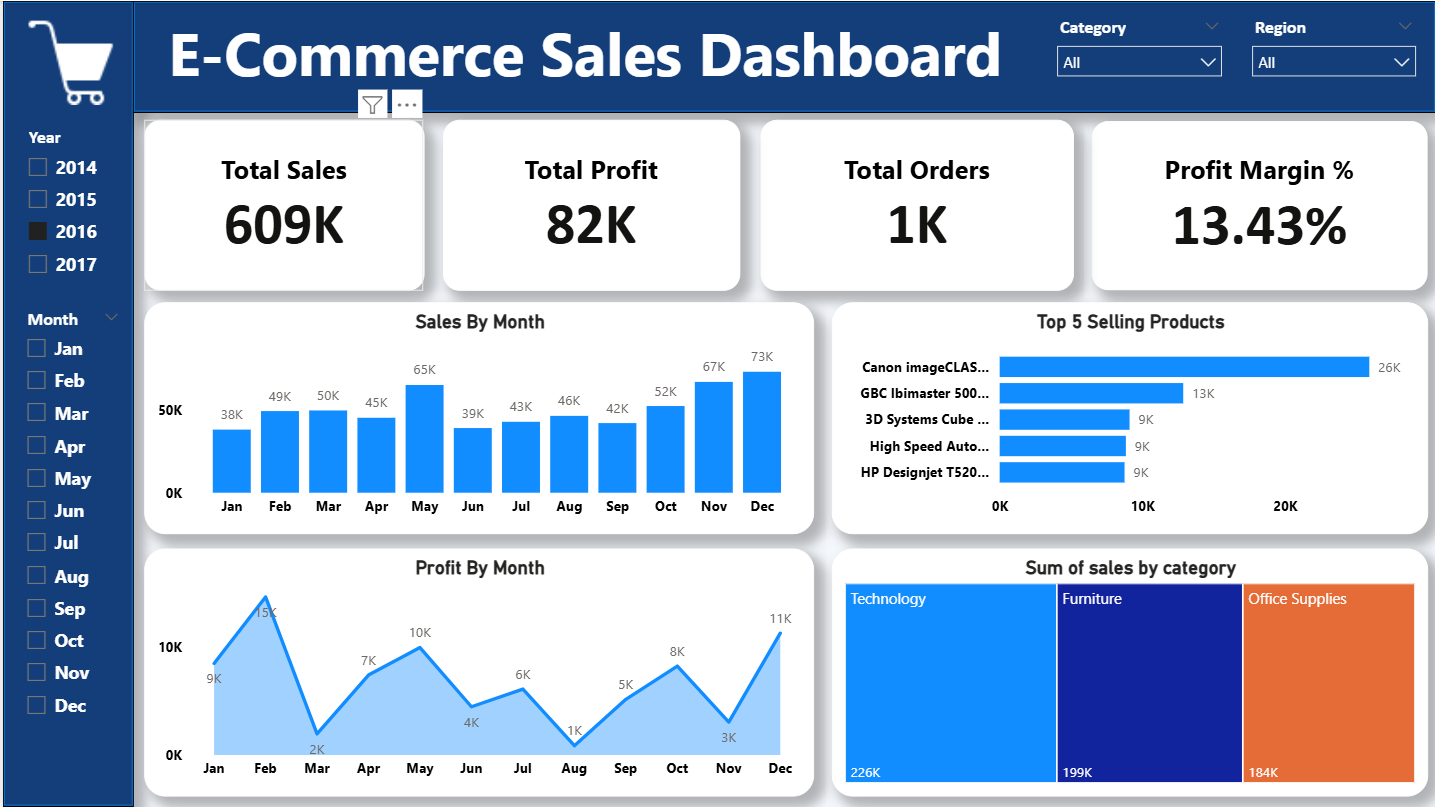

The page's visual inventory and layout, read from the dashboard file:
{"tool":"powerbi","page":{"name":"Page 1","canvas":[1280,720],"ordinal":0},"visuals":[{"type":"shape","box":[0,0,117.1,720],"z":0},{"type":"image","box":[147.1,21.4,84.3,77.1],"z":1000},{"type":"shape","box":[115.7,0,1164.3,100],"z":2000},{"type":"slicer","fields":{"Values":["cleaned_dataset.Year"]},"box":[10,106.7,106.7,153.3],"z":3000},{"type":"textbox","box":[117.1,4.3,805.7,91.4],"z":4000},{"type":"slicer","fields":{"Values":["cleaned_dataset.Month"]},"box":[8.6,268.6,107.1,444.3],"z":5000},{"type":"slicer","fields":{"Values":["cleaned_dataset.category"]},"box":[931.4,8.6,167.9,90.7],"z":6000},{"type":"slicer","fields":{"Values":["cleaned_dataset.region"]},"box":[1105.7,8.6,166.4,90.7],"z":7000},{"type":"cardVisual","fields":{"Data":["cleaned_dataset.Total Sales"]},"box":[125.7,105.7,250,152.9],"z":8000},{"type":"cardVisual","fields":{"Data":["cleaned_dataset.Profit Margin %"]},"box":[972.9,107.1,300,151.4],"z":9000},{"type":"cardVisual","fields":{"Data":["cleaned_dataset.Total Orders"]},"box":[677.1,105.7,280,152.9],"z":10000},{"type":"cardVisual","fields":{"Data":["cleaned_dataset.Total Profit"]},"box":[392.9,105.7,265.7,152.9],"z":11000},{"type":"columnChart","title":"Sales By Month","fields":{"Y":["Sum(cleaned_dataset.sales)"],"Category":["cleaned_dataset.Month"]},"box":[125.7,268.6,598.6,207.1],"z":12000},{"type":"areaChart","title":"Profit By Month","fields":{"Category":["cleaned_dataset.Month"],"Y":["Sum(cleaned_dataset.profit)"]},"box":[125.7,488.6,598.6,221.4],"z":13000},{"type":"clusteredBarChart","title":"Top 5 Selling Products","fields":{"Category":["cleaned_dataset.product_name"],"Y":["Sum(cleaned_dataset.sales)"]},"box":[740,268.6,532.9,207.1],"z":14000},{"type":"treemap","fields":{"Group":["cleaned_dataset.category"],"Values":["Sum(cleaned_dataset.sales)"]},"box":[740,488.6,532.9,221.4],"z":15000},{"type":"image","box":[15.7,14.3,92.9,78.6],"z":16000}]}

Visuals, with their boxes in screenshot pixels (x1, y1, x2, y2), scaled from the page's 1280x720 canvas onto the 1435x807 screenshot:
shape: locate(0, 0, 131, 806)
image: locate(165, 24, 259, 110)
shape: locate(130, 0, 1434, 112)
slicer - cleaned_dataset.Year: locate(11, 120, 131, 291)
textbox: locate(131, 5, 1035, 107)
slicer - cleaned_dataset.Month: locate(10, 301, 130, 799)
slicer - cleaned_dataset.category: locate(1044, 10, 1232, 111)
slicer - cleaned_dataset.region: locate(1240, 10, 1426, 111)
cardVisual - cleaned_dataset.Total Sales: locate(141, 118, 421, 290)
cardVisual - cleaned_dataset.Profit Margin %: locate(1091, 120, 1427, 290)
cardVisual - cleaned_dataset.Total Orders: locate(759, 118, 1073, 290)
cardVisual - cleaned_dataset.Total Profit: locate(440, 118, 738, 290)
"Sales By Month" columnChart: locate(141, 301, 812, 533)
"Profit By Month" areaChart: locate(141, 548, 812, 796)
"Top 5 Selling Products" clusteredBarChart: locate(830, 301, 1427, 533)
treemap - cleaned_dataset.category x Sum(cleaned_dataset.sales): locate(830, 548, 1427, 796)
image: locate(18, 16, 122, 104)
